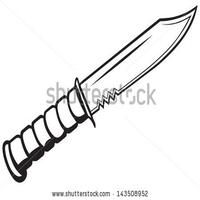knife: (2, 5, 197, 180)
